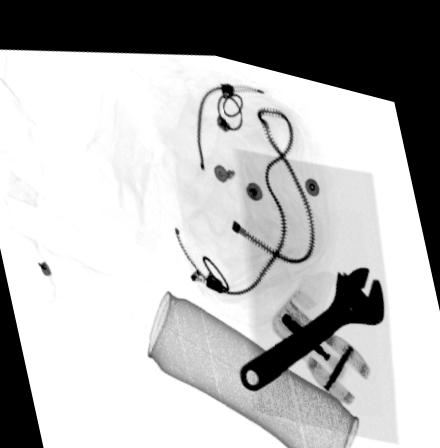Wrench: (236, 246, 384, 378)
